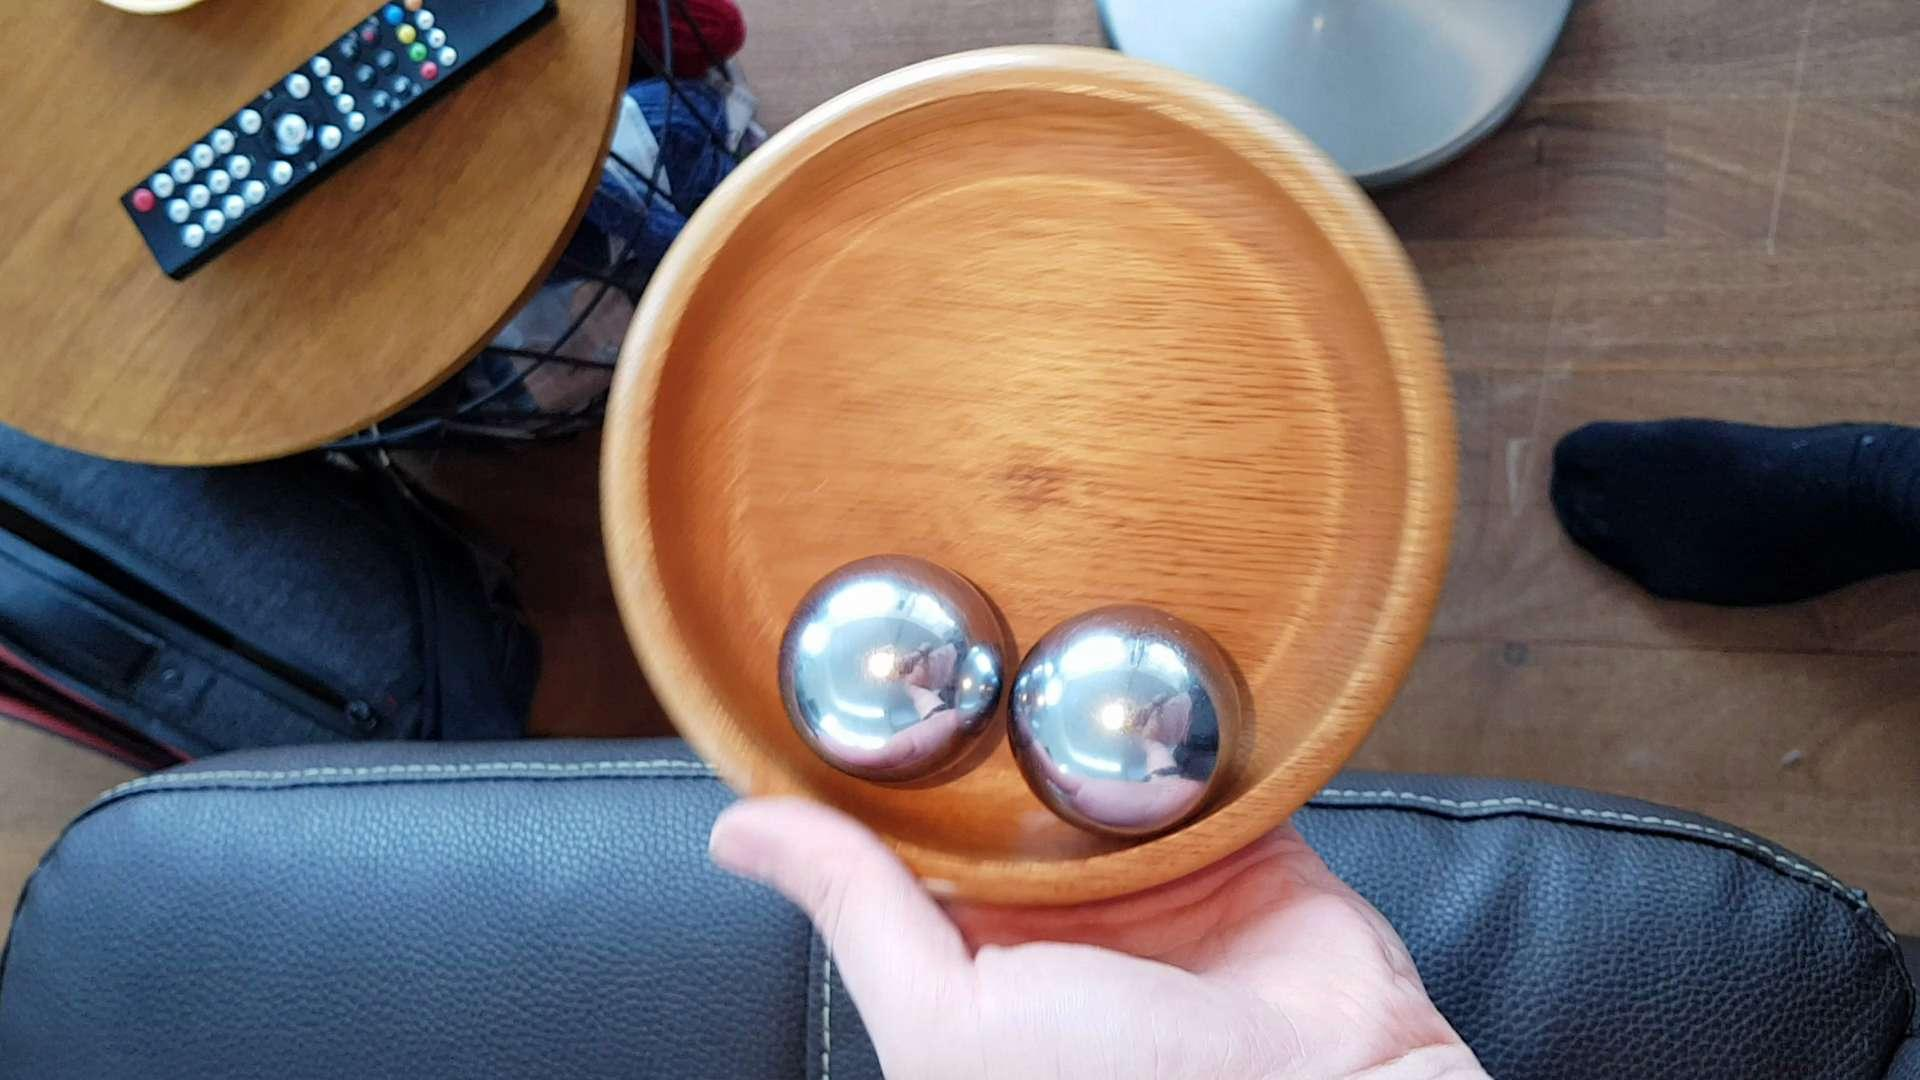sphere: (1005, 589, 1247, 845), (783, 545, 1011, 774)
